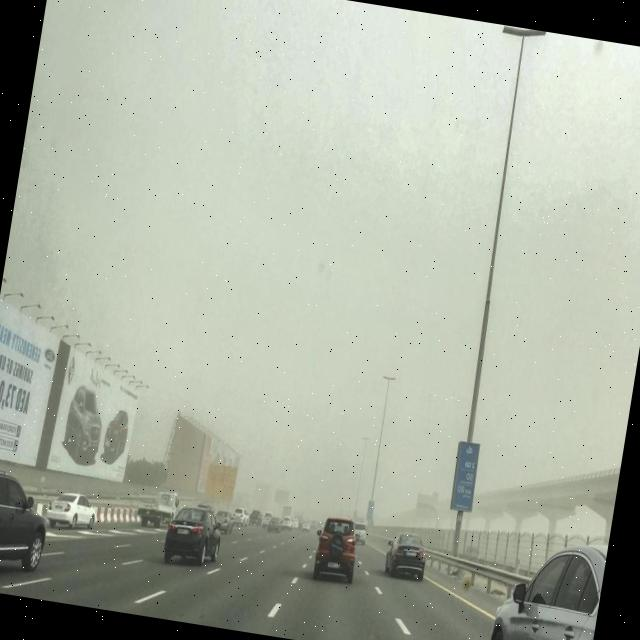bus: (134, 486, 180, 531)
car: (482, 533, 607, 640), (0, 463, 57, 589), (160, 504, 226, 570), (310, 514, 362, 586), (42, 488, 100, 532), (382, 530, 431, 582), (214, 508, 236, 534), (232, 506, 250, 529), (352, 521, 369, 545), (267, 516, 284, 534), (248, 509, 264, 528), (260, 510, 274, 529), (282, 514, 294, 530), (300, 519, 312, 534), (309, 518, 318, 529), (292, 518, 300, 528)
